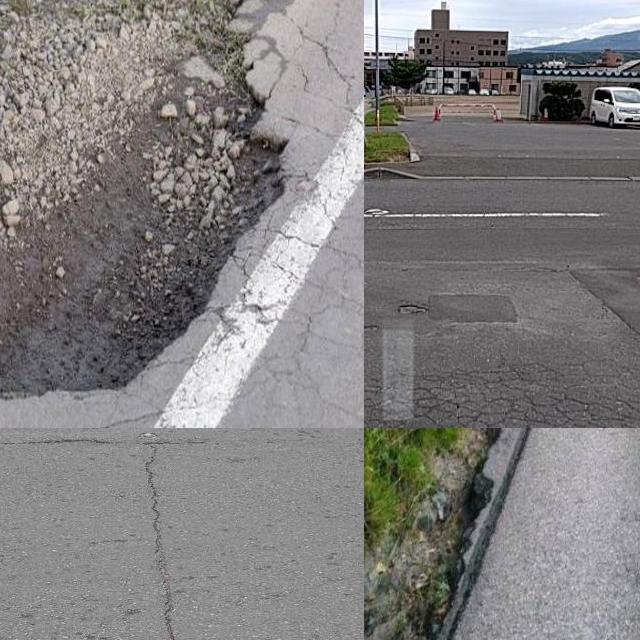Memanjang: (135, 428, 202, 640)
Pinggir: (0, 0, 320, 418), (364, 428, 550, 640)
Retak Buaya: (364, 367, 640, 428)
